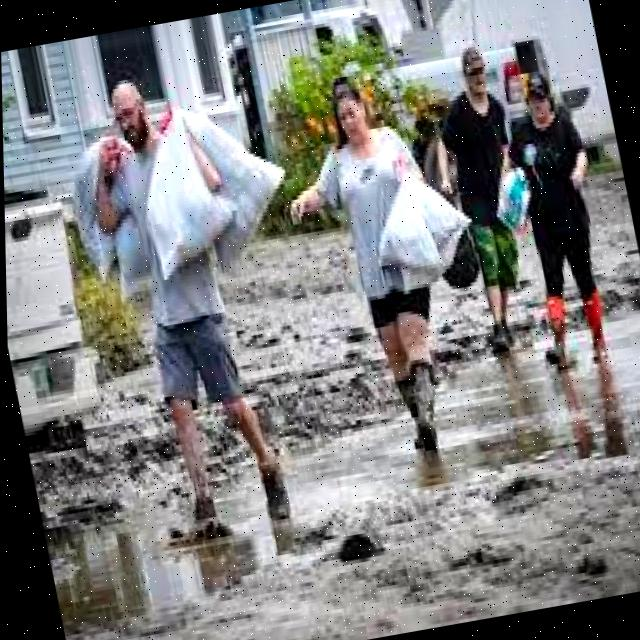civilian: (68, 56, 304, 552), (290, 70, 478, 472), (484, 62, 630, 390), (420, 36, 546, 367)
